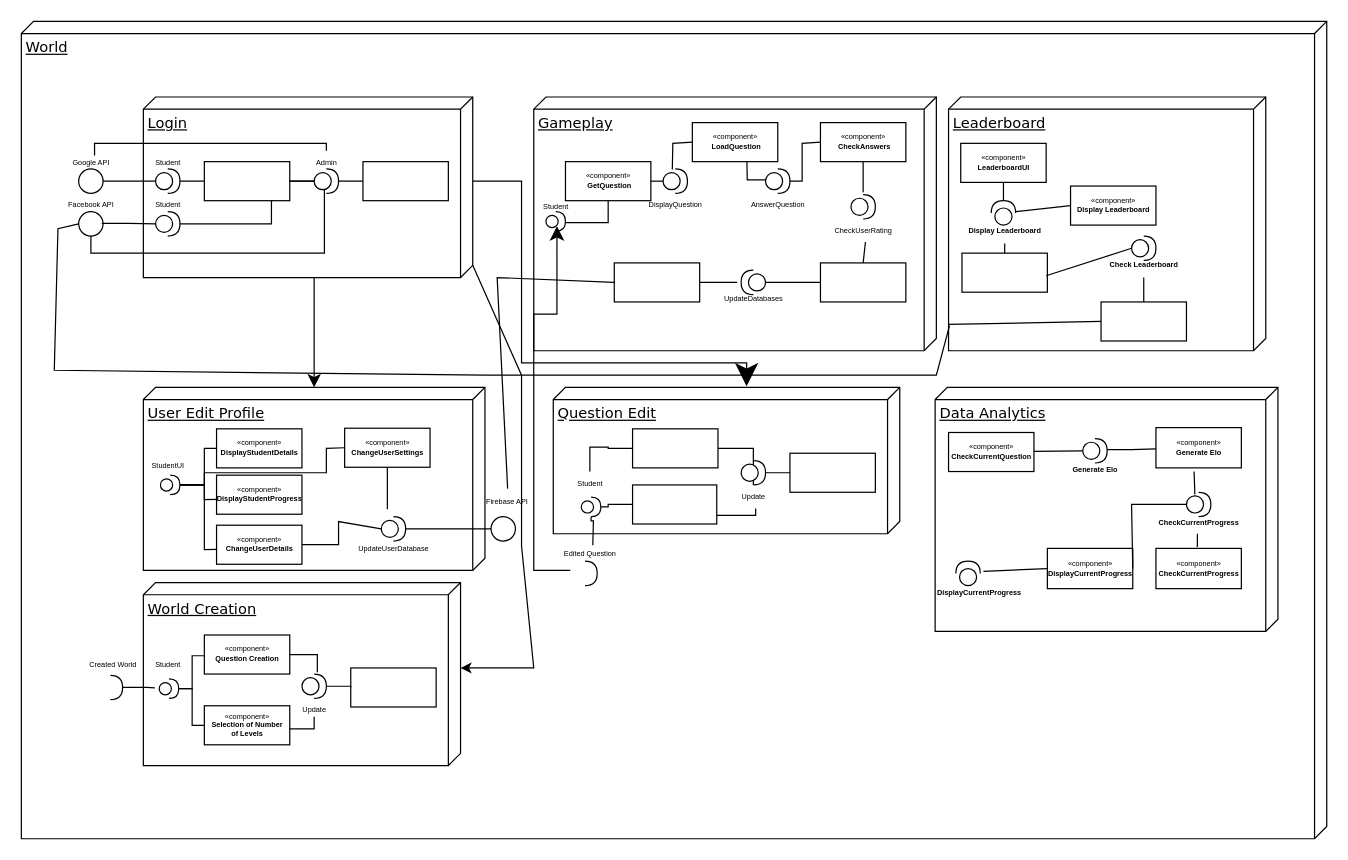
Some shapes in this 1348 by 860 pixel diagram are drawn without their labels. The shapes that lost their labels are listed below. From the top down, each one's centre as x and y in pixels, then its label:
(x=246, y=180): «component» Login
(x=405, y=180): «component» Validate Credentials
(x=656, y=282): «component» UpdateDatabases
(x=862, y=282): «component» CheckRating
(x=1004, y=272): «component» Check Leaderboard
(x=1143, y=321): «component» Update Leaderboard
(x=674, y=448): «component» Add Question
(x=832, y=472): «component» Question Bank
(x=674, y=504): «component» Edit Question
(x=393, y=687): «component» Game Database
